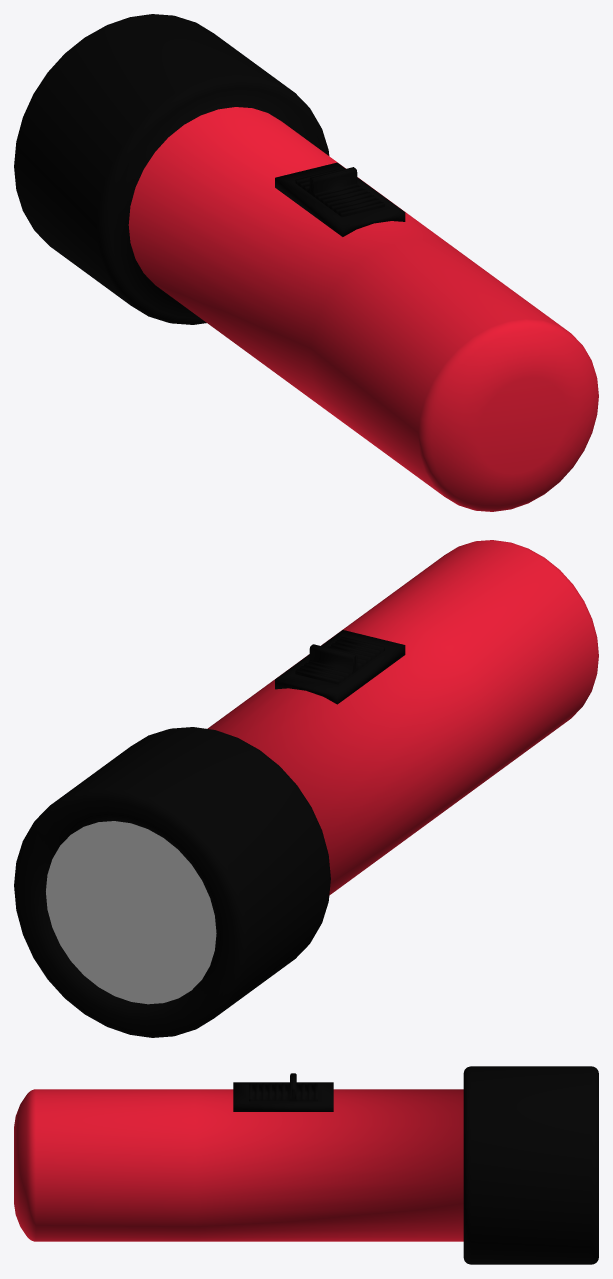
File: flashlight.glb
3 renders of one model, top to bottom at view 1: azimuth 30°, elevation 25°; view 2: azimuth 150°, elevation 25°; view 3: azimuth 270°, elevation 25°, orthographic. The views are drawn at different scales.
Visible parts, largest first — view 1: flashlight; view 2: flashlight; view 3: flashlight.
Boxes of the visible parts, x1,y1,x2,y2 form: flashlight: (14, 14, 598, 511); flashlight: (14, 540, 598, 1037); flashlight: (14, 1066, 598, 1264).
Size of the model in its own units: 0.3435 by 0.3435 by 1.01.
